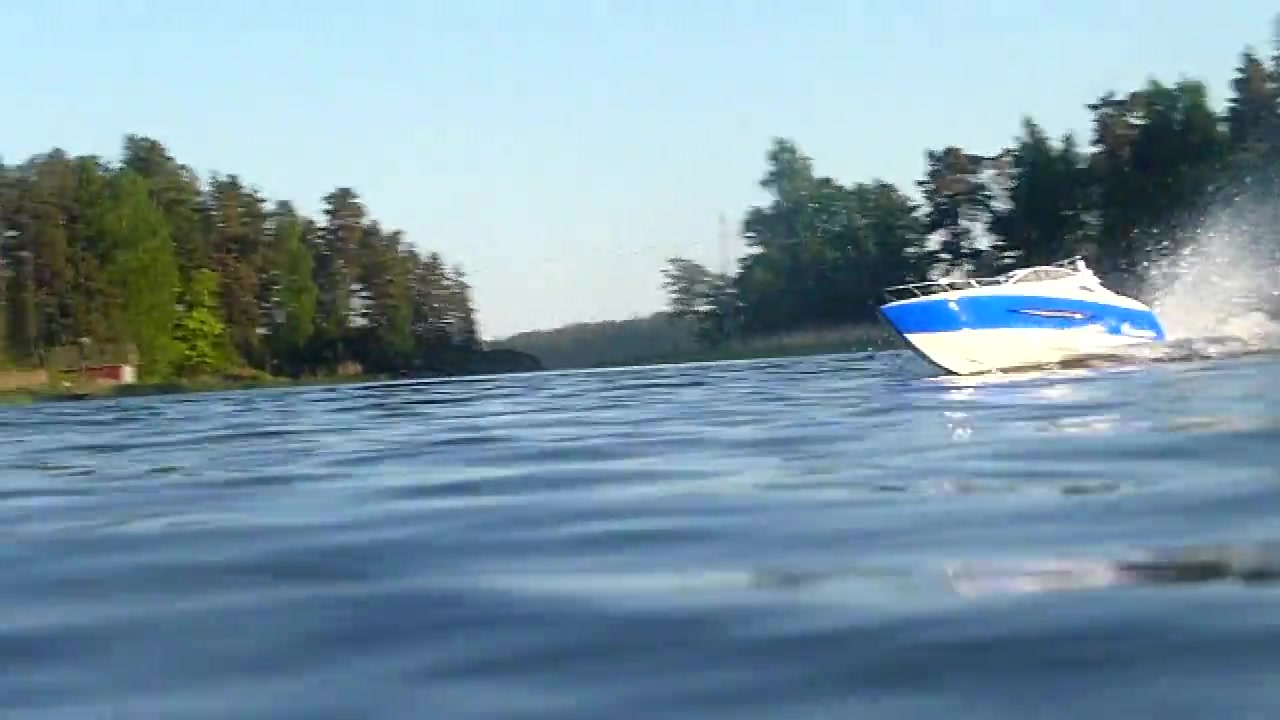boat: (876, 253, 1166, 374)
